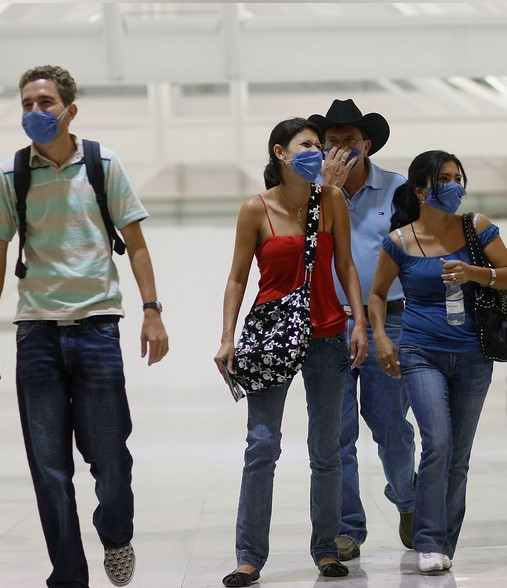face_with_mask: (17, 65, 78, 145), (410, 150, 466, 213), (270, 122, 325, 186), (320, 114, 373, 179)
